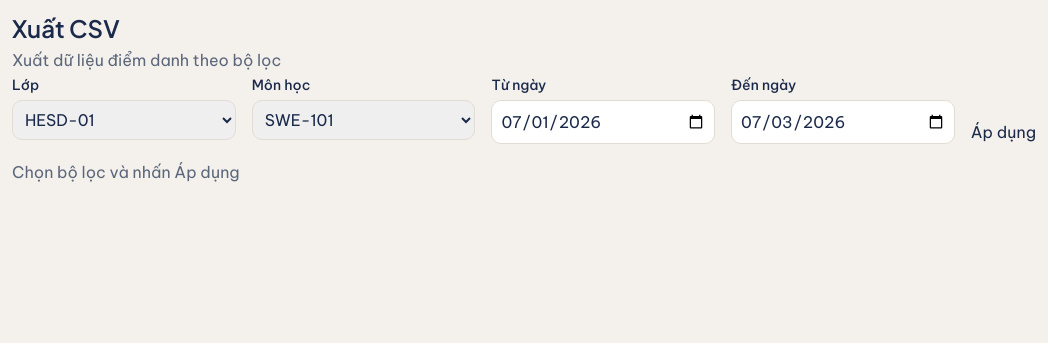
Admin report pages (NFR-17) › TC-AC-13-012: AdminExportPage shows export form for TrainingOfficeAdmin
Expected: the dropdown labelled "Lớp" is shown, [12,100,236,140]
Click the button "Áp dụng": (1003, 132) [971,120,1036,144]
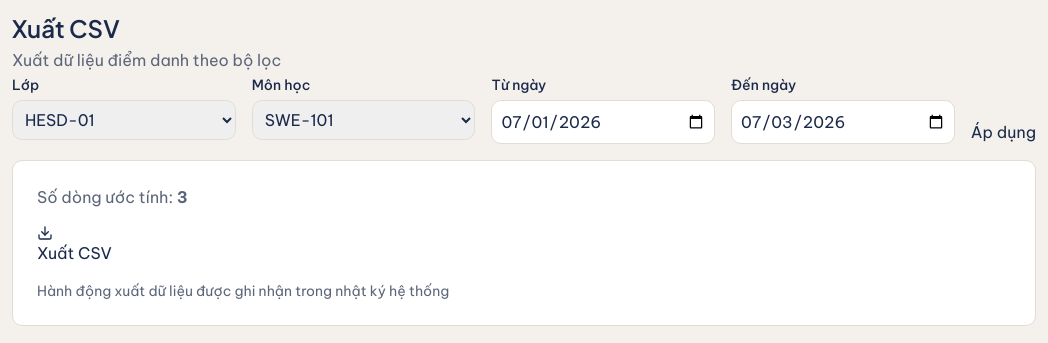
Result: the element with test id "csv-export-panel" is shown at [12,160,1036,326]
Result: the button "Xuất CSV" is shown at [37,225,112,265]
